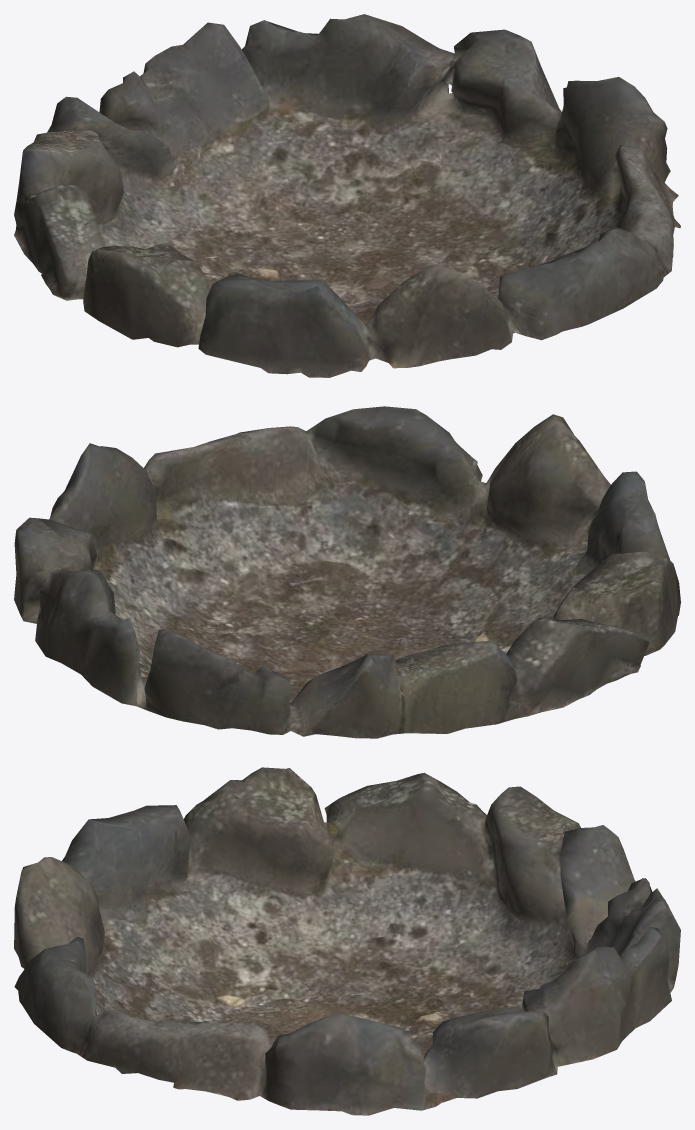
Rendered from stone_fire_pit.glb.
The picture shows the model from 3 angles, top to bottom: view 1: azimuth 30°, elevation 25°; view 2: azimuth 150°, elevation 25°; view 3: azimuth 270°, elevation 25°; orthographic projection.
Parts seen in each view (by area): view 1: stone_fire_pit; view 2: stone_fire_pit; view 3: stone_fire_pit.
Part boxes in pixels (x1=…): stone_fire_pit: x1=14, y1=14, x2=680, y2=377; stone_fire_pit: x1=14, y1=406, x2=680, y2=738; stone_fire_pit: x1=14, y1=767, x2=680, y2=1115.
Size of the model in its own units: 1.45 by 0.3883 by 1.43.
1 material, 1 textured.
